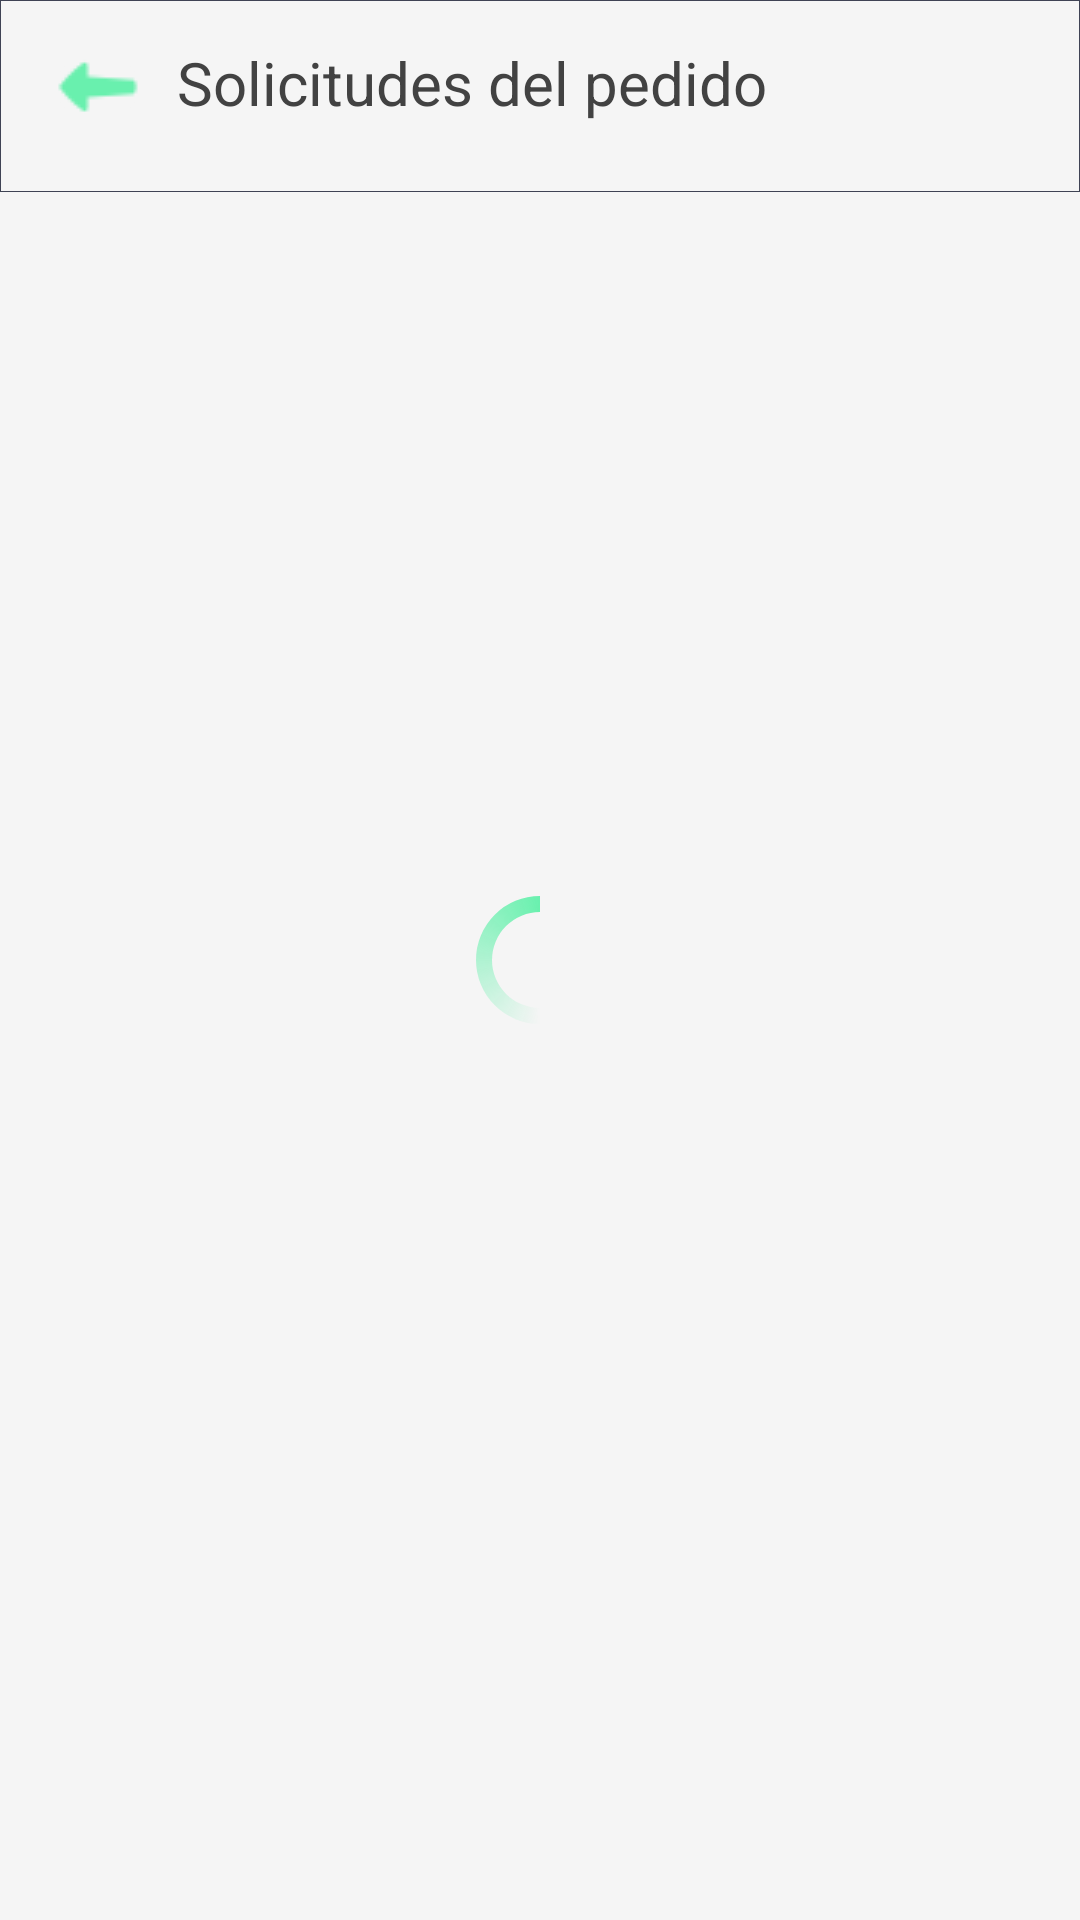

Screen size 1080×1920. Icon name, then its center in pixels as (x,y):
back: (98,87)
